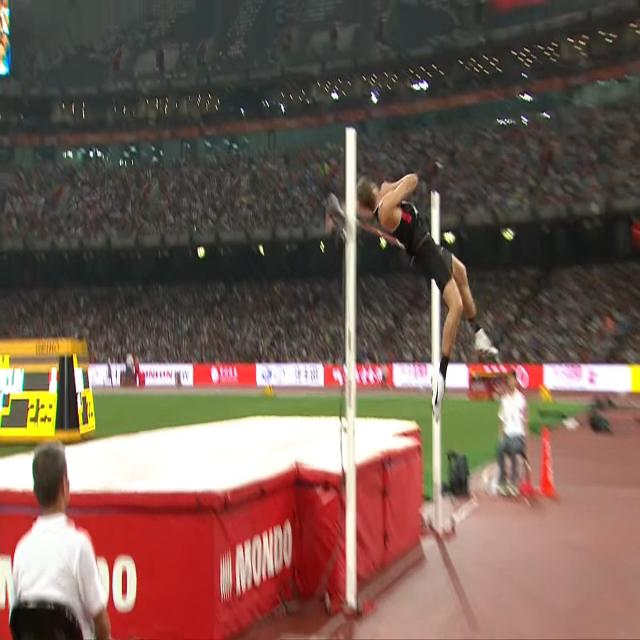jump: (338, 172, 499, 420)
